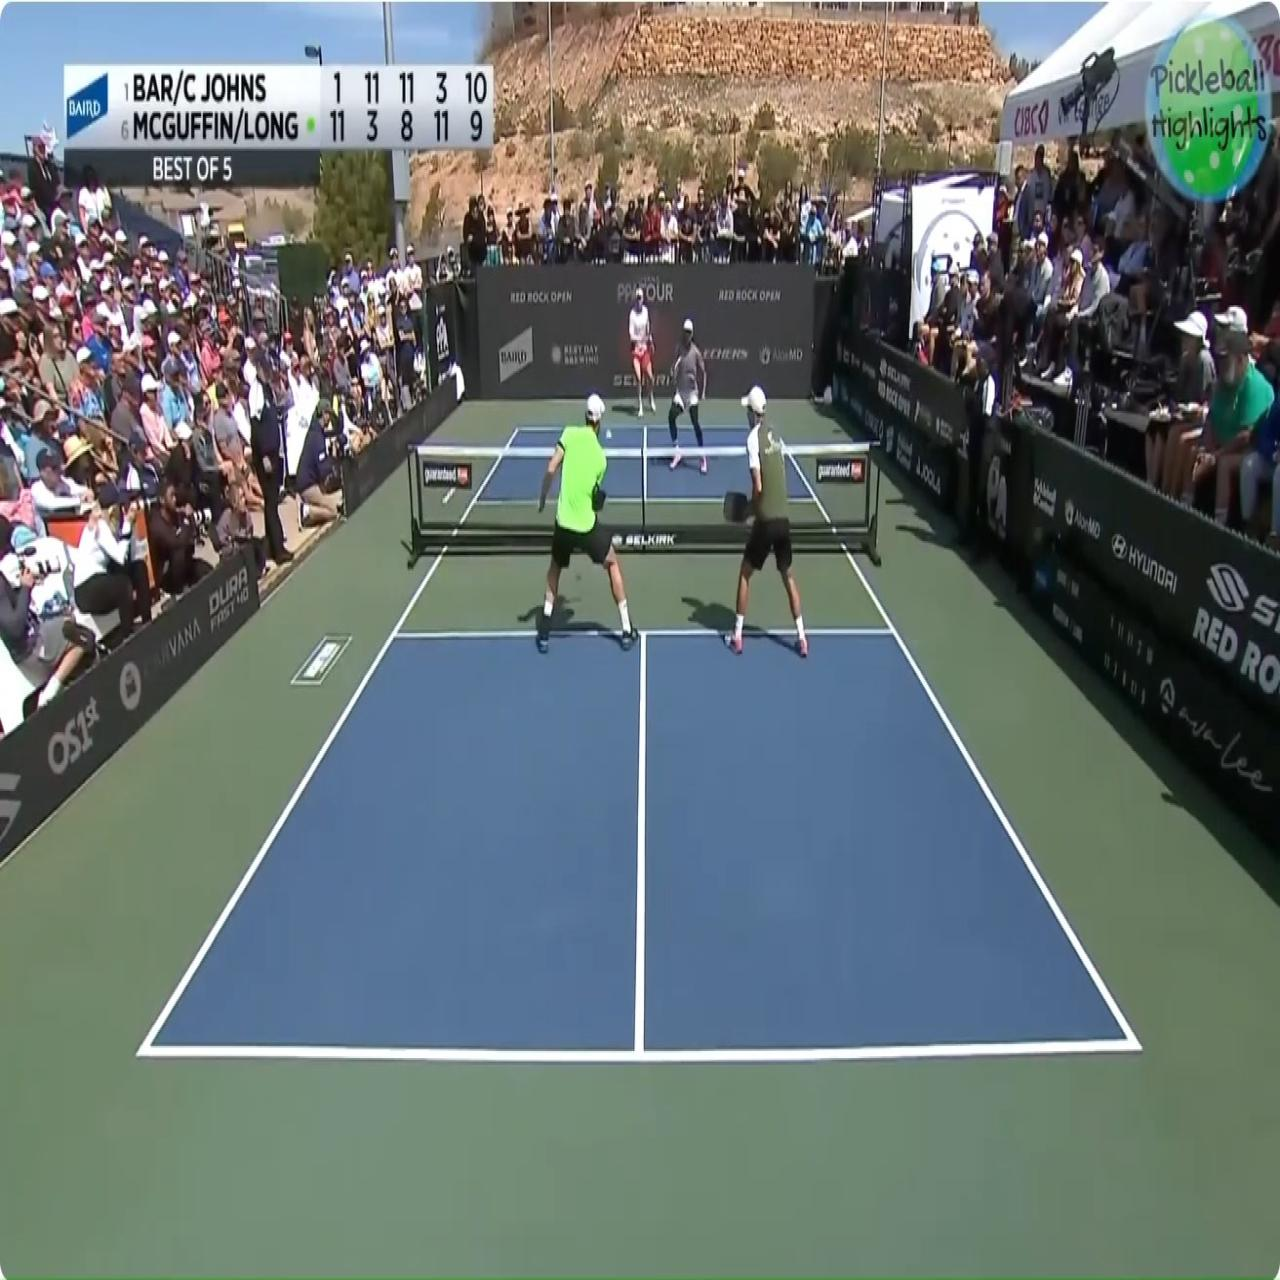pickleball: (604, 429, 613, 440)
